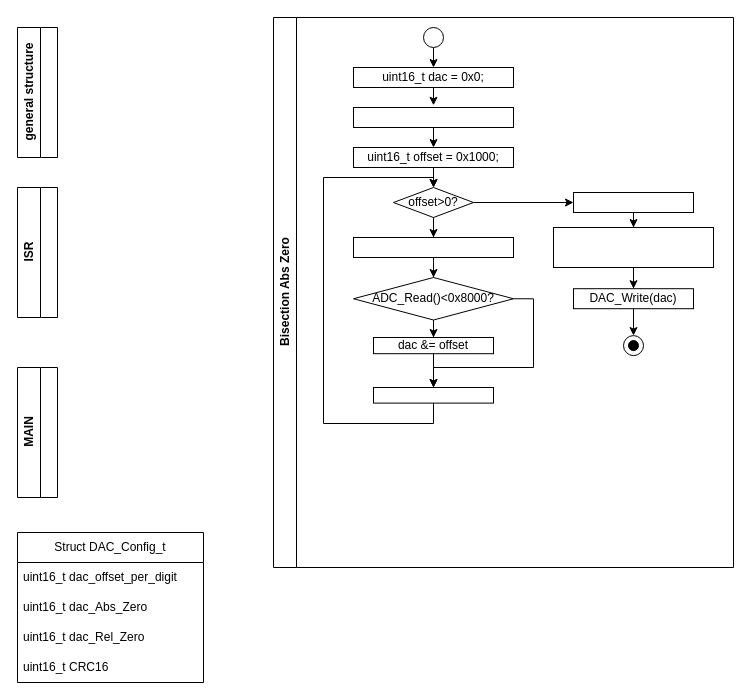
Image size: 751x700. Some labels were removed from this diagram. Here are the shapes that lost their labels. From the top down, the centre of each, then its label:
At (433,117): "DAC_Write(dac);".
At (633,202): "DAC_Write(dac+4)".
At (433,247): "DAC_Write(dac & offset)".
At (633,247): "dac_offset_per_digit = ADC_Read()/4".
At (433,394): "offset = (offset >> 1);".
